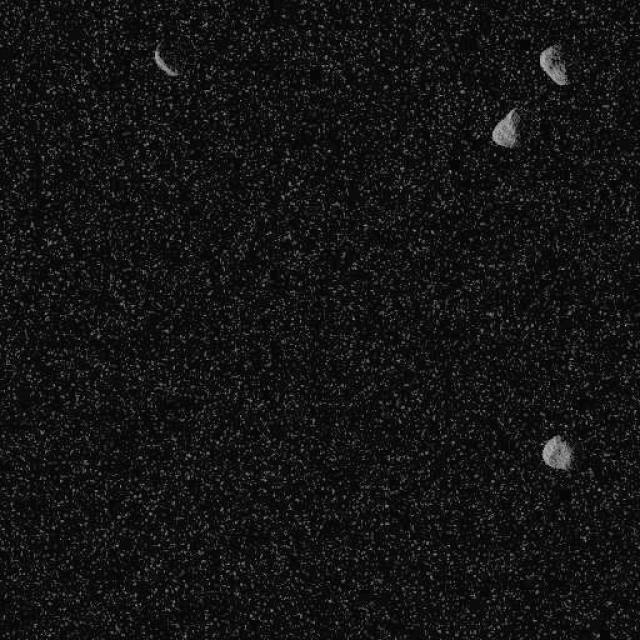D2: (538, 44, 568, 86), (540, 434, 574, 471), (490, 108, 520, 148), (152, 40, 178, 78)
